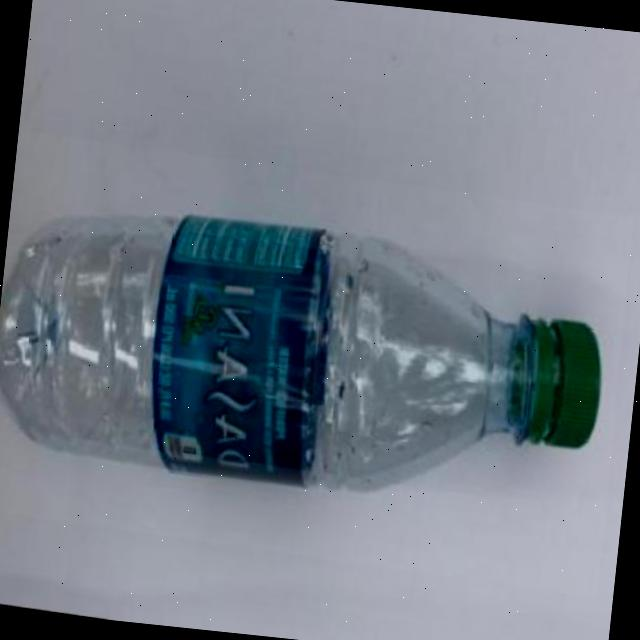trash: (0, 184, 621, 526)
